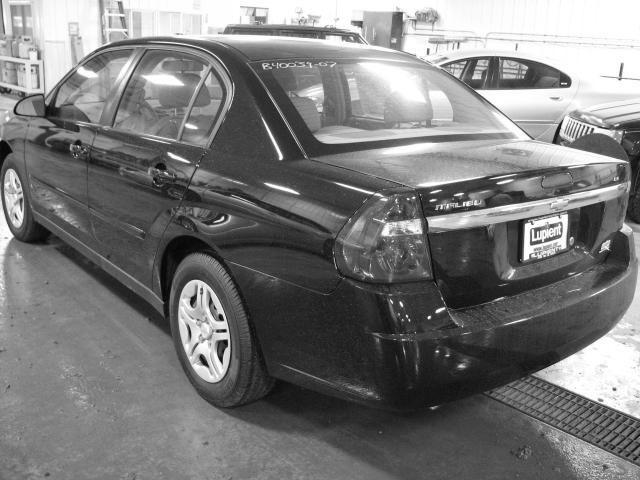car: (3, 33, 639, 415)
